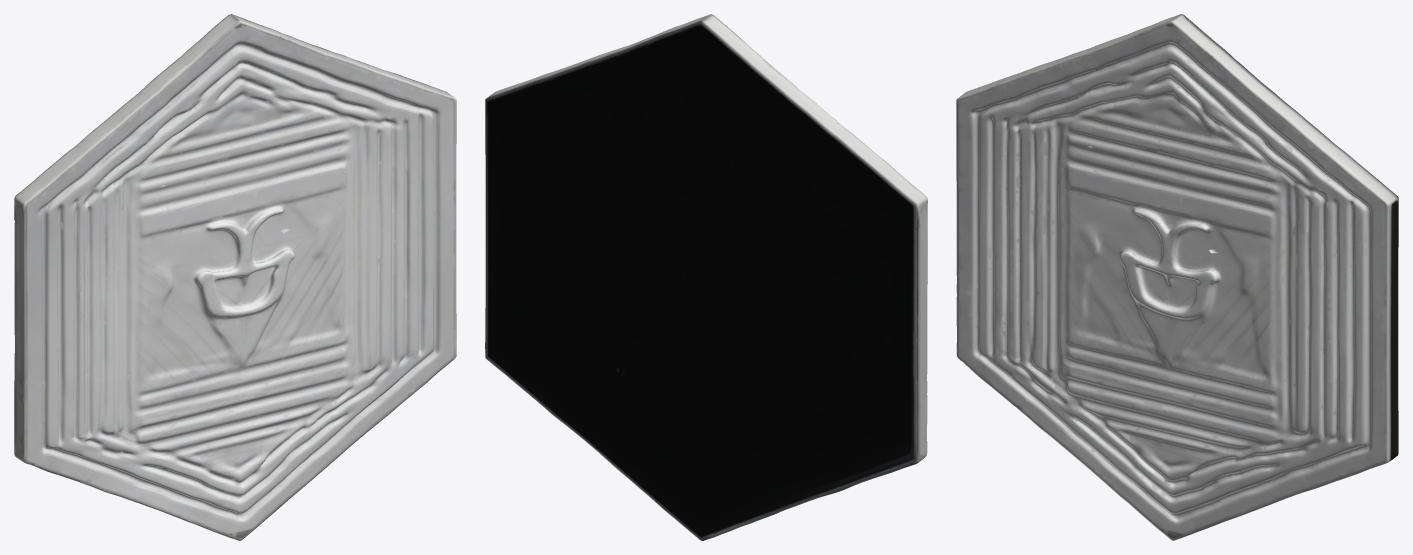
File: Hexagonal_Grid.fbx
The picture shows the model from 3 angles, left to right: view 1: azimuth 30°, elevation 25°; view 2: azimuth 150°, elevation 25°; view 3: azimuth 330°, elevation 25°; orthographic projection.
Parts seen in each view (by area): view 1: Mesh_0; view 2: Mesh_0; view 3: Mesh_0.
Part boxes in pixels (x1,y1,x2,y2): Mesh_0: [14, 14, 456, 540]; Mesh_0: [485, 14, 927, 540]; Mesh_0: [956, 14, 1398, 540].
Size of the model in its own units: 174 by 200 by 11.65.
1 material, 1 textured.
